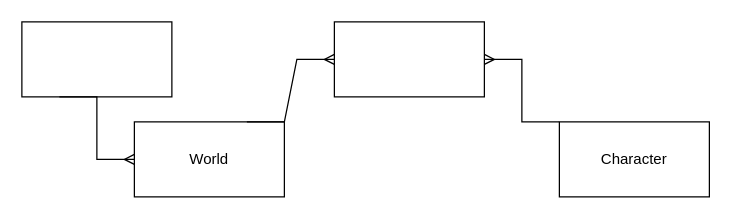
Image size: 731x219. Some labels were removed from this diagram. The box of each missing label's shape, as (x1, y1, x2, y2) in pixels:
CharacterPositions: (333, 21, 484, 97)
Difficulty: (21, 21, 172, 97)
